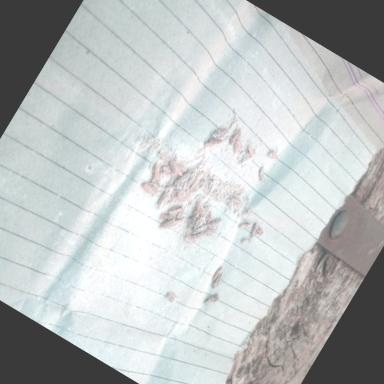pbw: (164, 158, 188, 178), (172, 166, 192, 190), (202, 290, 223, 312), (154, 188, 172, 213), (188, 170, 206, 194), (210, 122, 230, 143), (226, 125, 243, 147), (146, 164, 164, 184), (166, 201, 184, 220), (255, 164, 272, 184), (210, 271, 226, 292), (204, 136, 222, 154), (159, 214, 176, 233), (191, 222, 208, 240), (158, 209, 175, 226), (230, 138, 246, 156), (138, 182, 156, 196), (246, 222, 260, 240), (211, 266, 224, 284), (208, 215, 222, 230), (193, 202, 208, 216), (203, 225, 217, 239), (239, 236, 252, 250), (170, 216, 183, 230), (192, 229, 205, 242), (238, 221, 251, 233), (184, 234, 196, 246), (253, 226, 264, 238)
